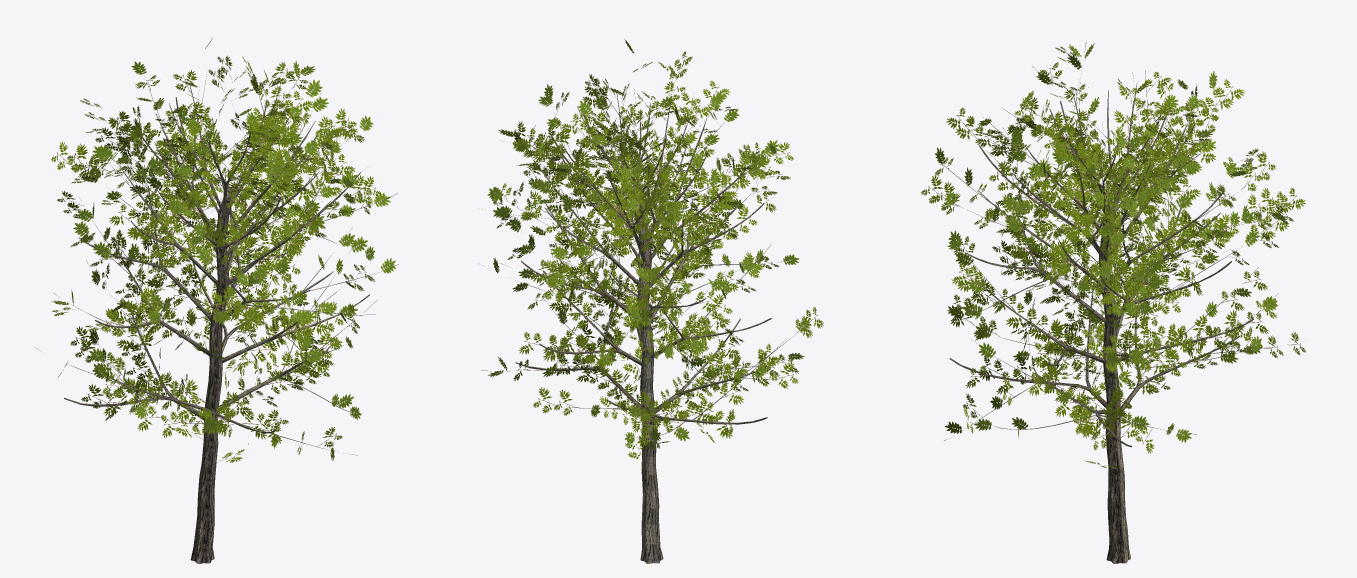
The model's file is ash.gltf.
3 renders of one model, left to right at view 1: azimuth 30°, elevation 25°; view 2: azimuth 150°, elevation 25°; view 3: azimuth 270°, elevation 25°, orthographic. The views are drawn at different scales.
Parts seen in each view (by area): view 1: Leaves1_LOD1, Ash8_LOD1, Leaves2_LOD1; view 2: Leaves1_LOD1, Ash8_LOD1, Leaves2_LOD1; view 3: Leaves1_LOD1, Ash8_LOD1, Leaves2_LOD1.
Part boxes in pixels (bbox=[...]): Leaves1_LOD1: bbox=[51, 55, 381, 462]; Ash8_LOD1: bbox=[35, 68, 398, 563]; Leaves2_LOD1: bbox=[51, 38, 395, 460]; Leaves1_LOD1: bbox=[491, 51, 823, 459]; Ash8_LOD1: bbox=[481, 76, 814, 563]; Leaves2_LOD1: bbox=[487, 39, 811, 446]; Leaves1_LOD1: bbox=[921, 46, 1305, 468]; Ash8_LOD1: bbox=[937, 42, 1290, 563]; Leaves2_LOD1: bbox=[935, 43, 1287, 442].
Size of the model in its own units: 5.79 by 7.72 by 6.1.
Materials: 3 (3 with a texture image).
